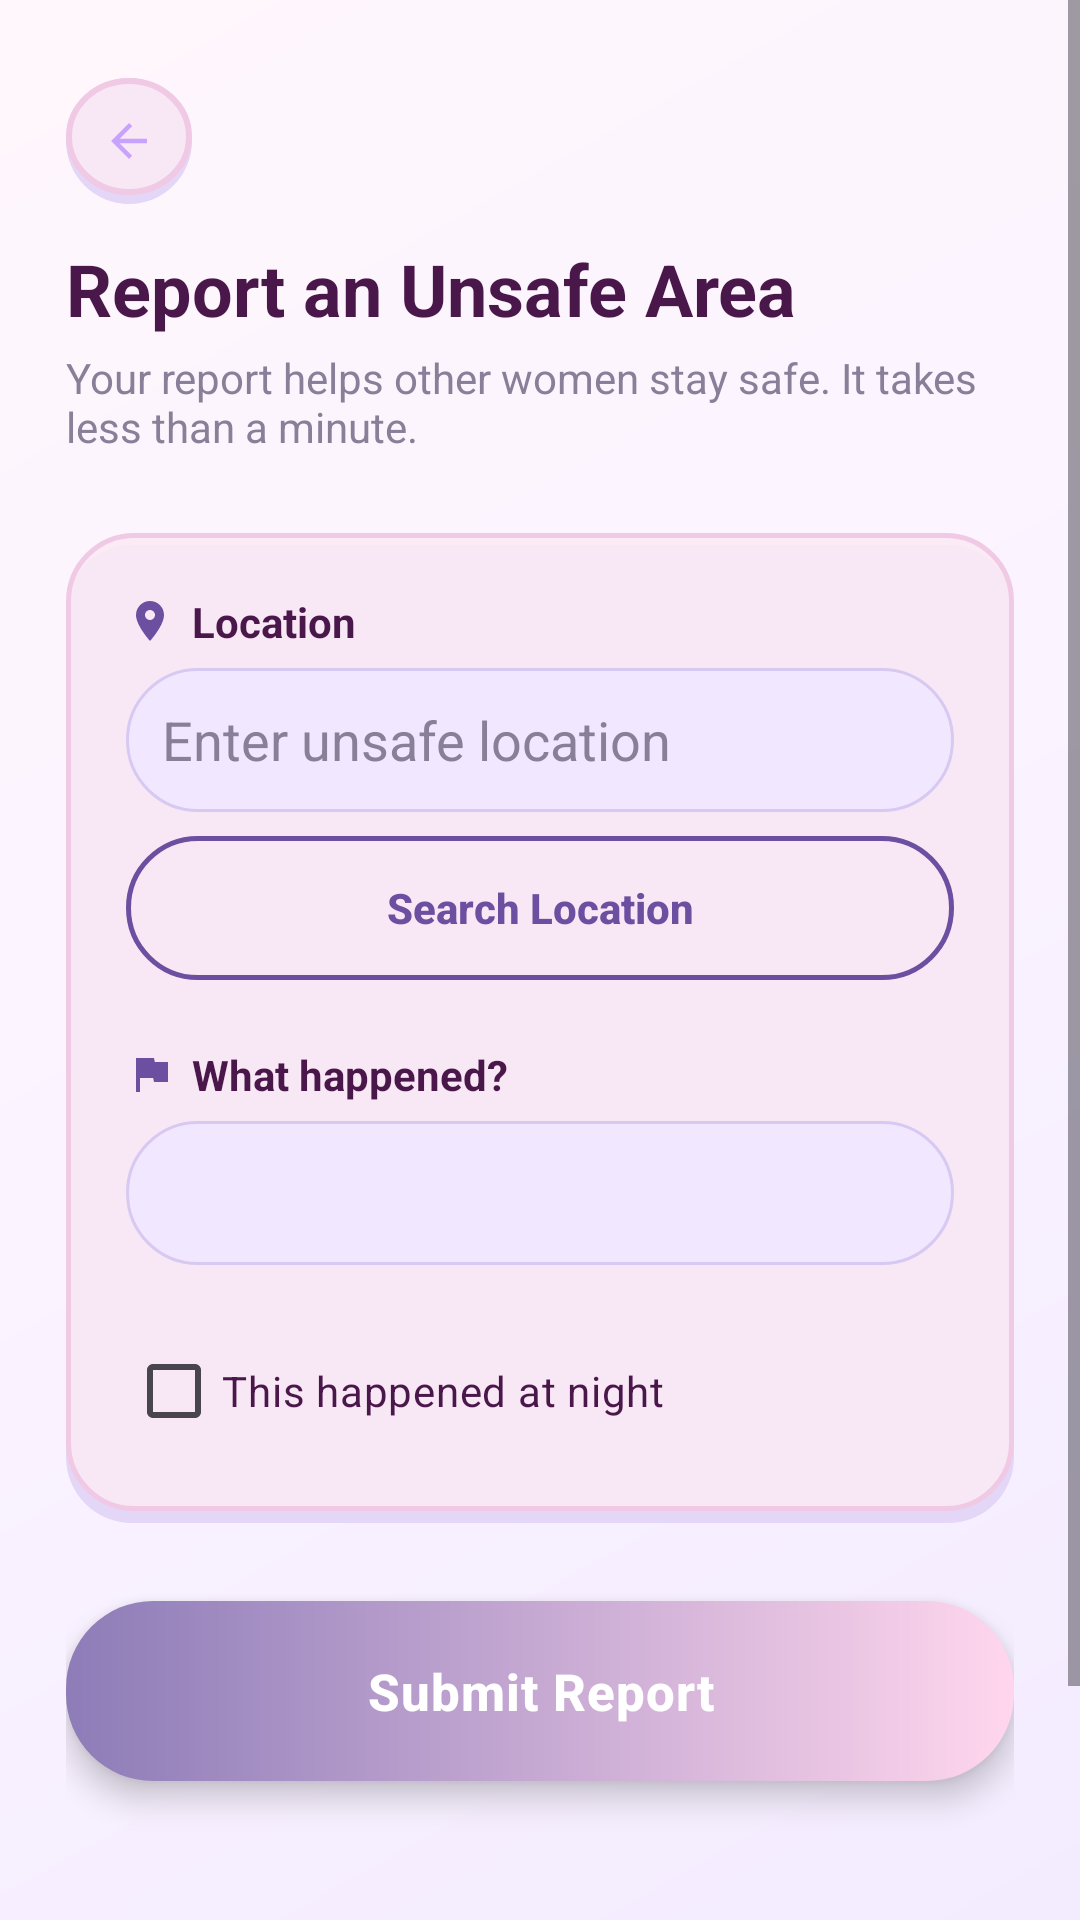

Icon bounding boxes for this 1080*1920 phone screenshot, format {"left": x1, "top": y1, "right": x2, "bottom": y2}:
arrow back: {"left": 111, "top": 123, "right": 147, "bottom": 159}
map pin: {"left": 136, "top": 601, "right": 164, "bottom": 641}
report flag: {"left": 136, "top": 1058, "right": 168, "bottom": 1092}
